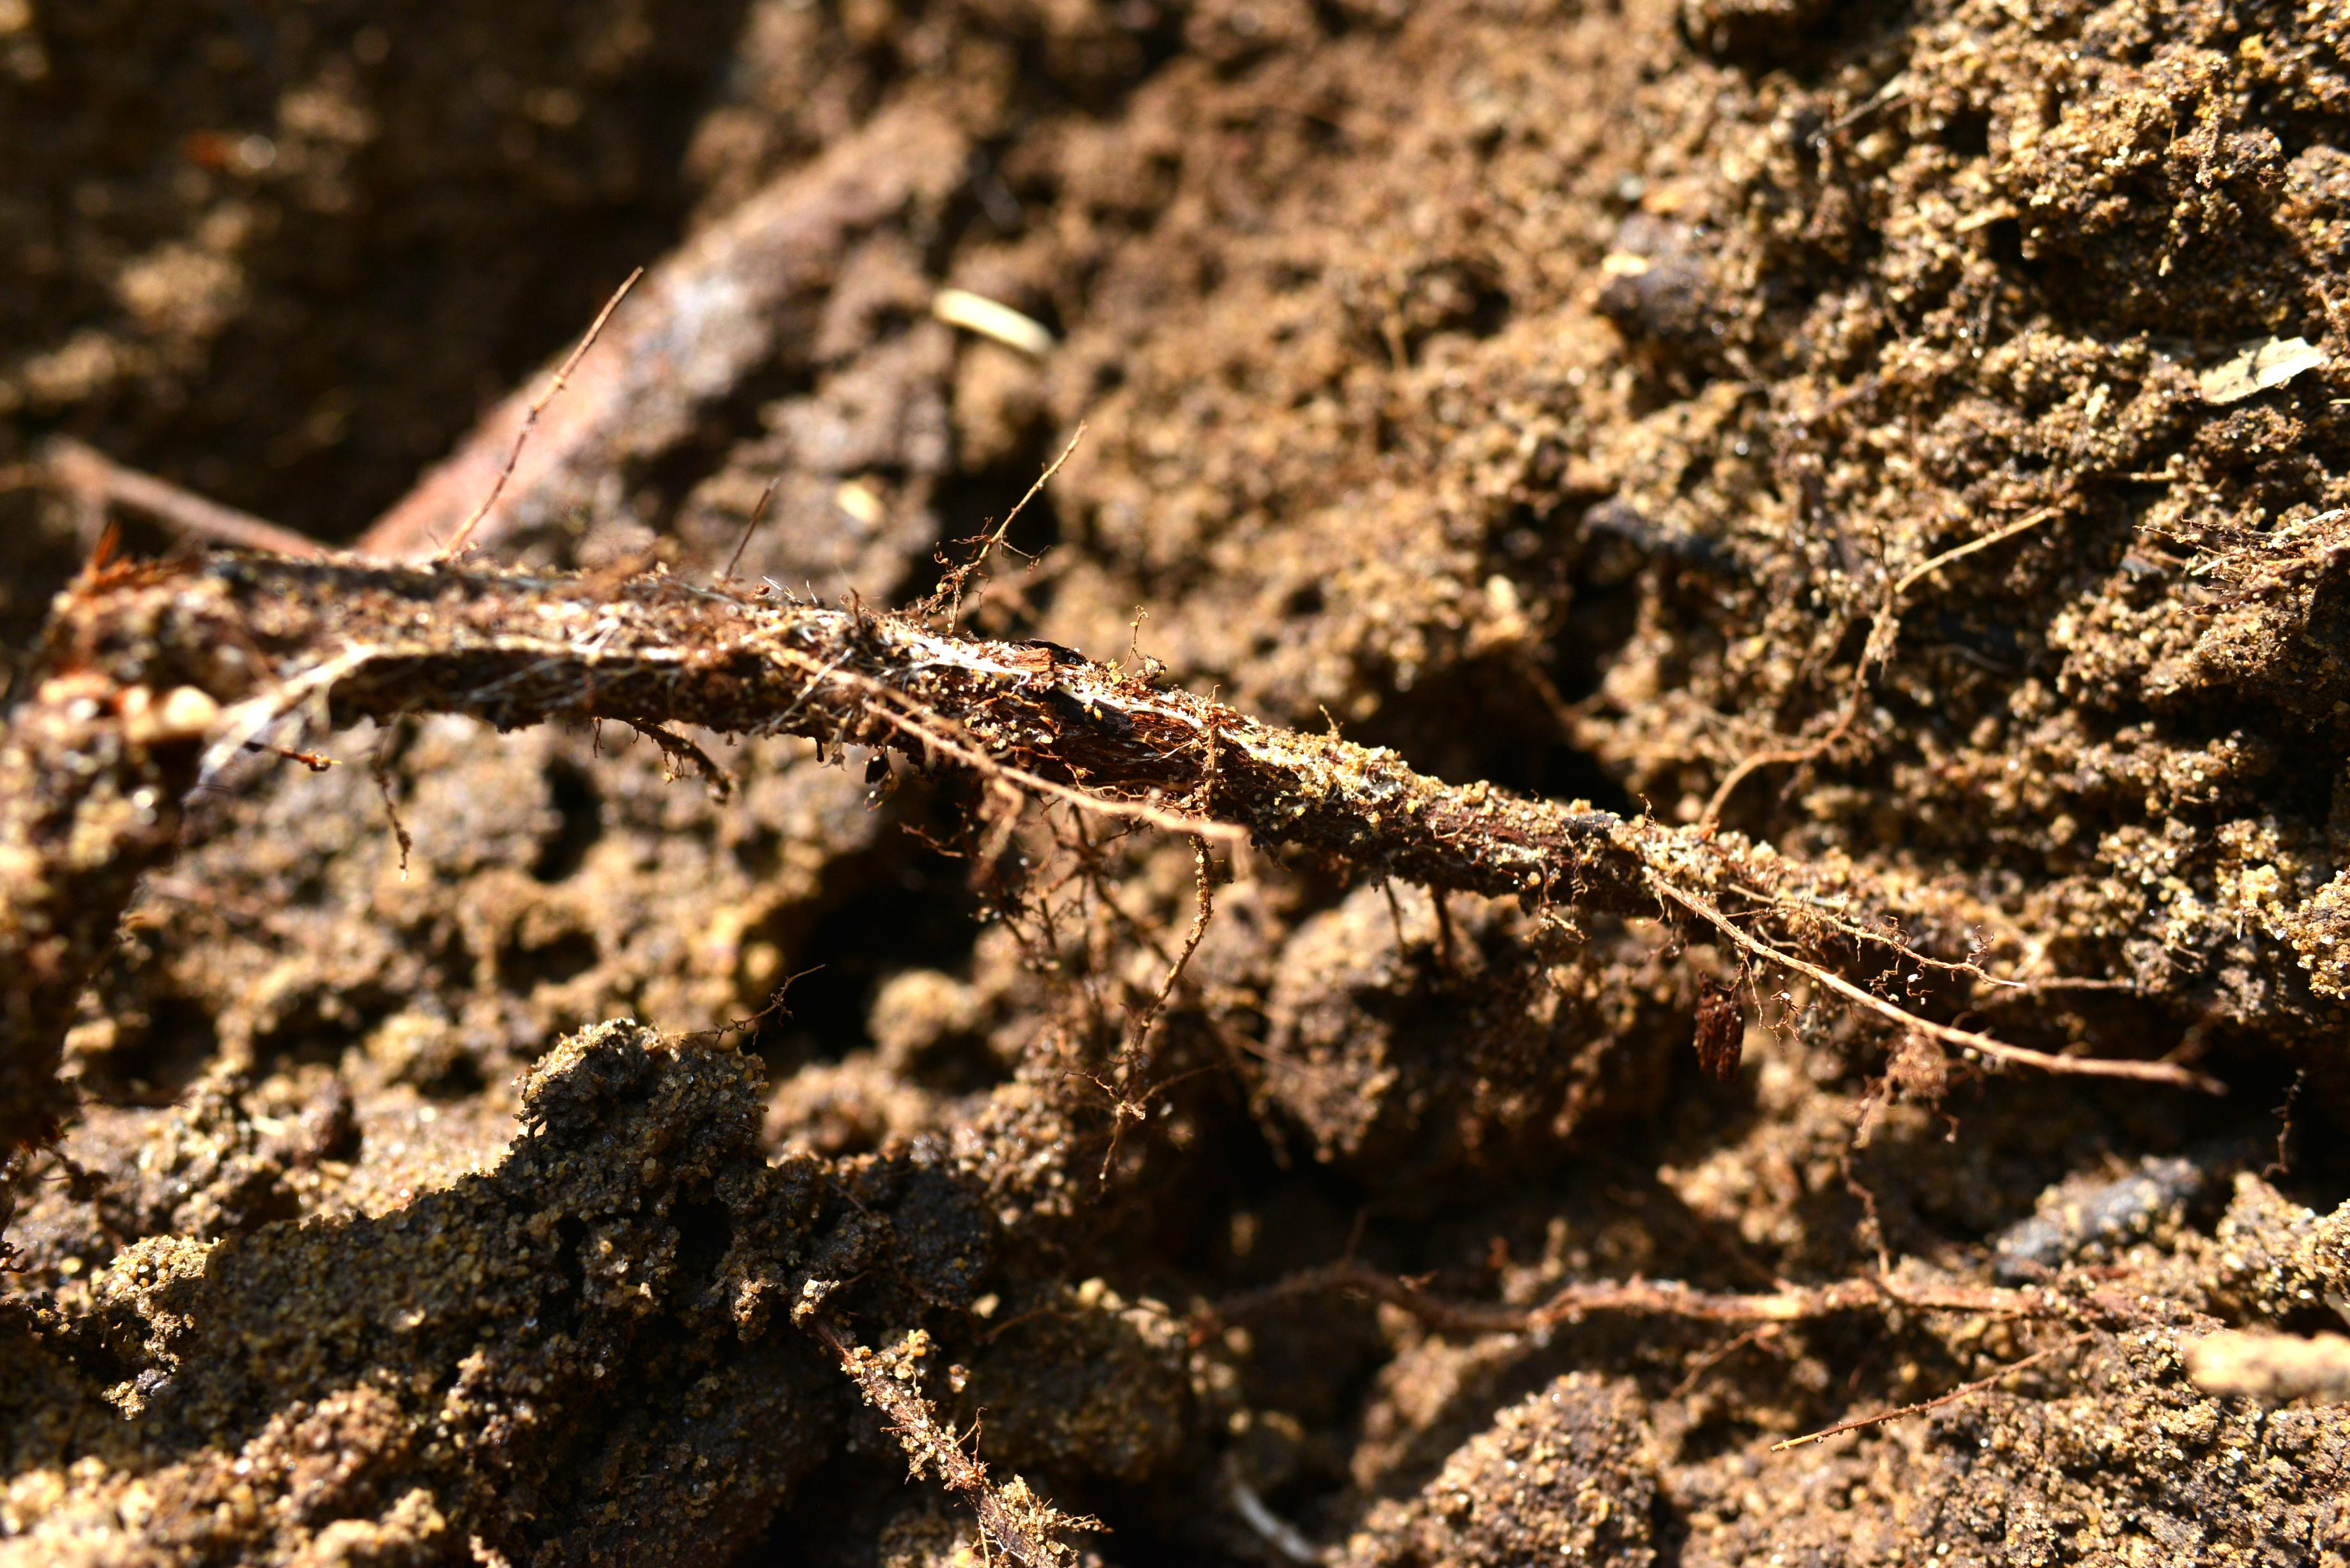Ganoderma - Mycelium: (194, 565, 1680, 801)
